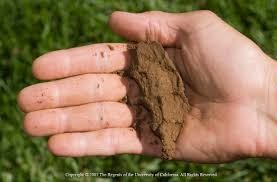dirt: (130, 41, 189, 155)
grass: (0, 46, 44, 179), (0, 1, 108, 42)
